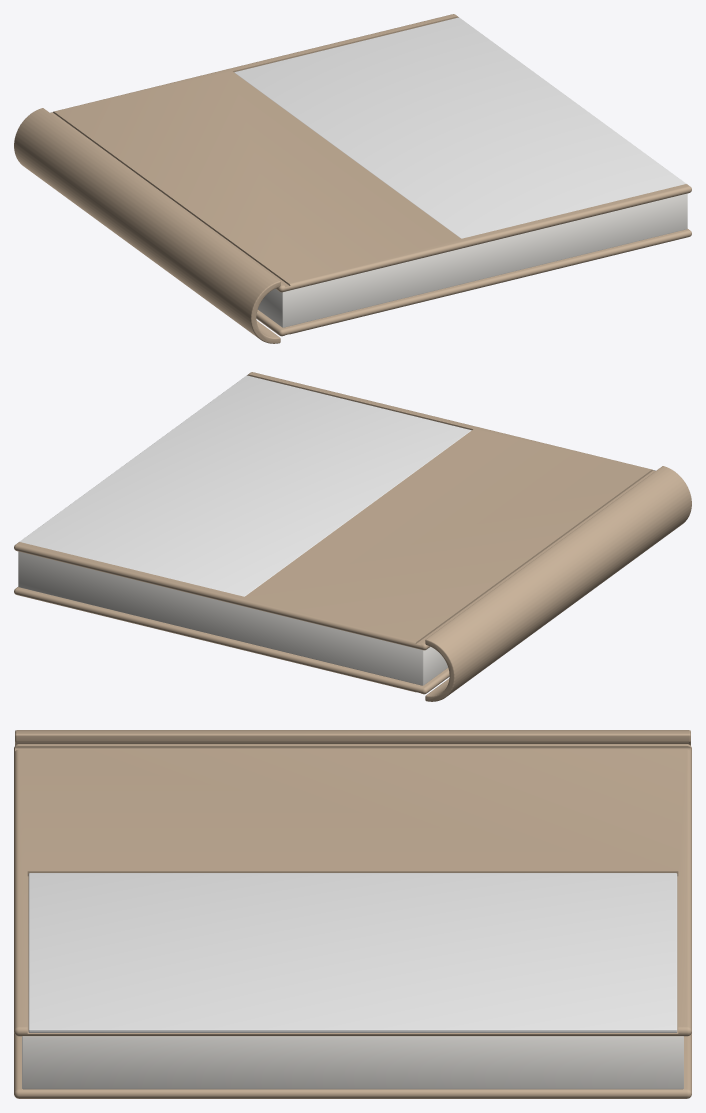
The model's file is photo-side--square.glb.
3 renders of one model, top to bottom at view 1: azimuth 30°, elevation 25°; view 2: azimuth 150°, elevation 25°; view 3: azimuth 270°, elevation 25°, orthographic. The views are drawn at different scales.
Visible parts, largest first — view 1: Photo, CoverFront, Spine, Pages, CoverBack; view 2: Photo, CoverFront, Spine, Pages, CoverBack; view 3: Photo, CoverFront, Pages, Spine, CoverBack.
Boxes of the visible parts, <box> form: Photo: <box>234,17,686,238</box>; CoverFront: <box>50,14,691,292</box>; Spine: <box>14,108,280,343</box>; Pages: <box>258,193,687,327</box>; CoverBack: <box>256,229,691,336</box>; Photo: <box>19,375,471,596</box>; CoverFront: <box>14,372,655,650</box>; Spine: <box>425,466,691,701</box>; Pages: <box>18,551,447,685</box>; CoverBack: <box>14,587,449,694</box>; Photo: <box>28,873,677,1032</box>; CoverFront: <box>14,744,691,1036</box>; Pages: <box>22,1036,683,1089</box>; Spine: <box>15,730,690,745</box>; CoverBack: <box>14,1033,691,1098</box>.
Bounding box in the file's own units: 0.3208 × 0.043 × 0.3.
